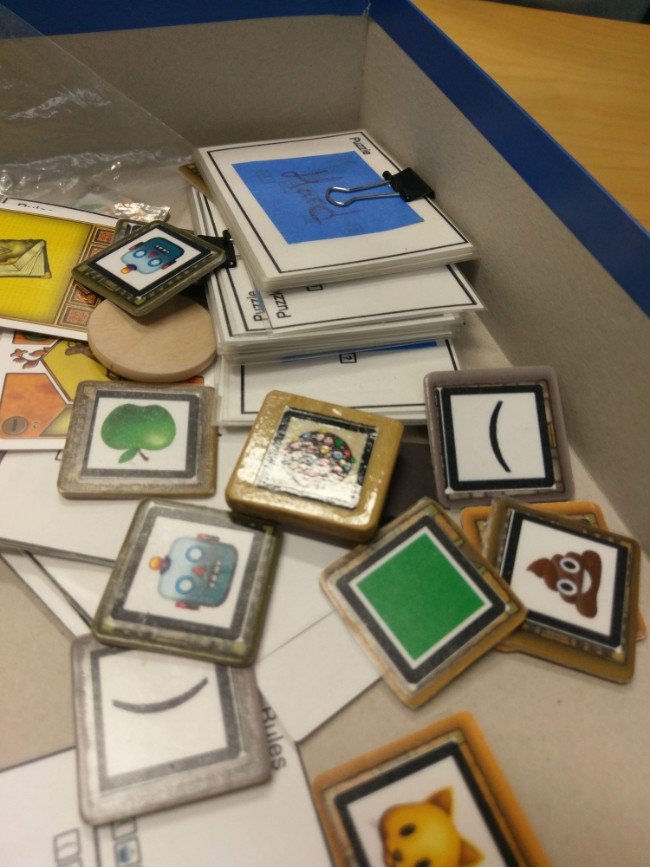cookie: (258, 407, 373, 507)
